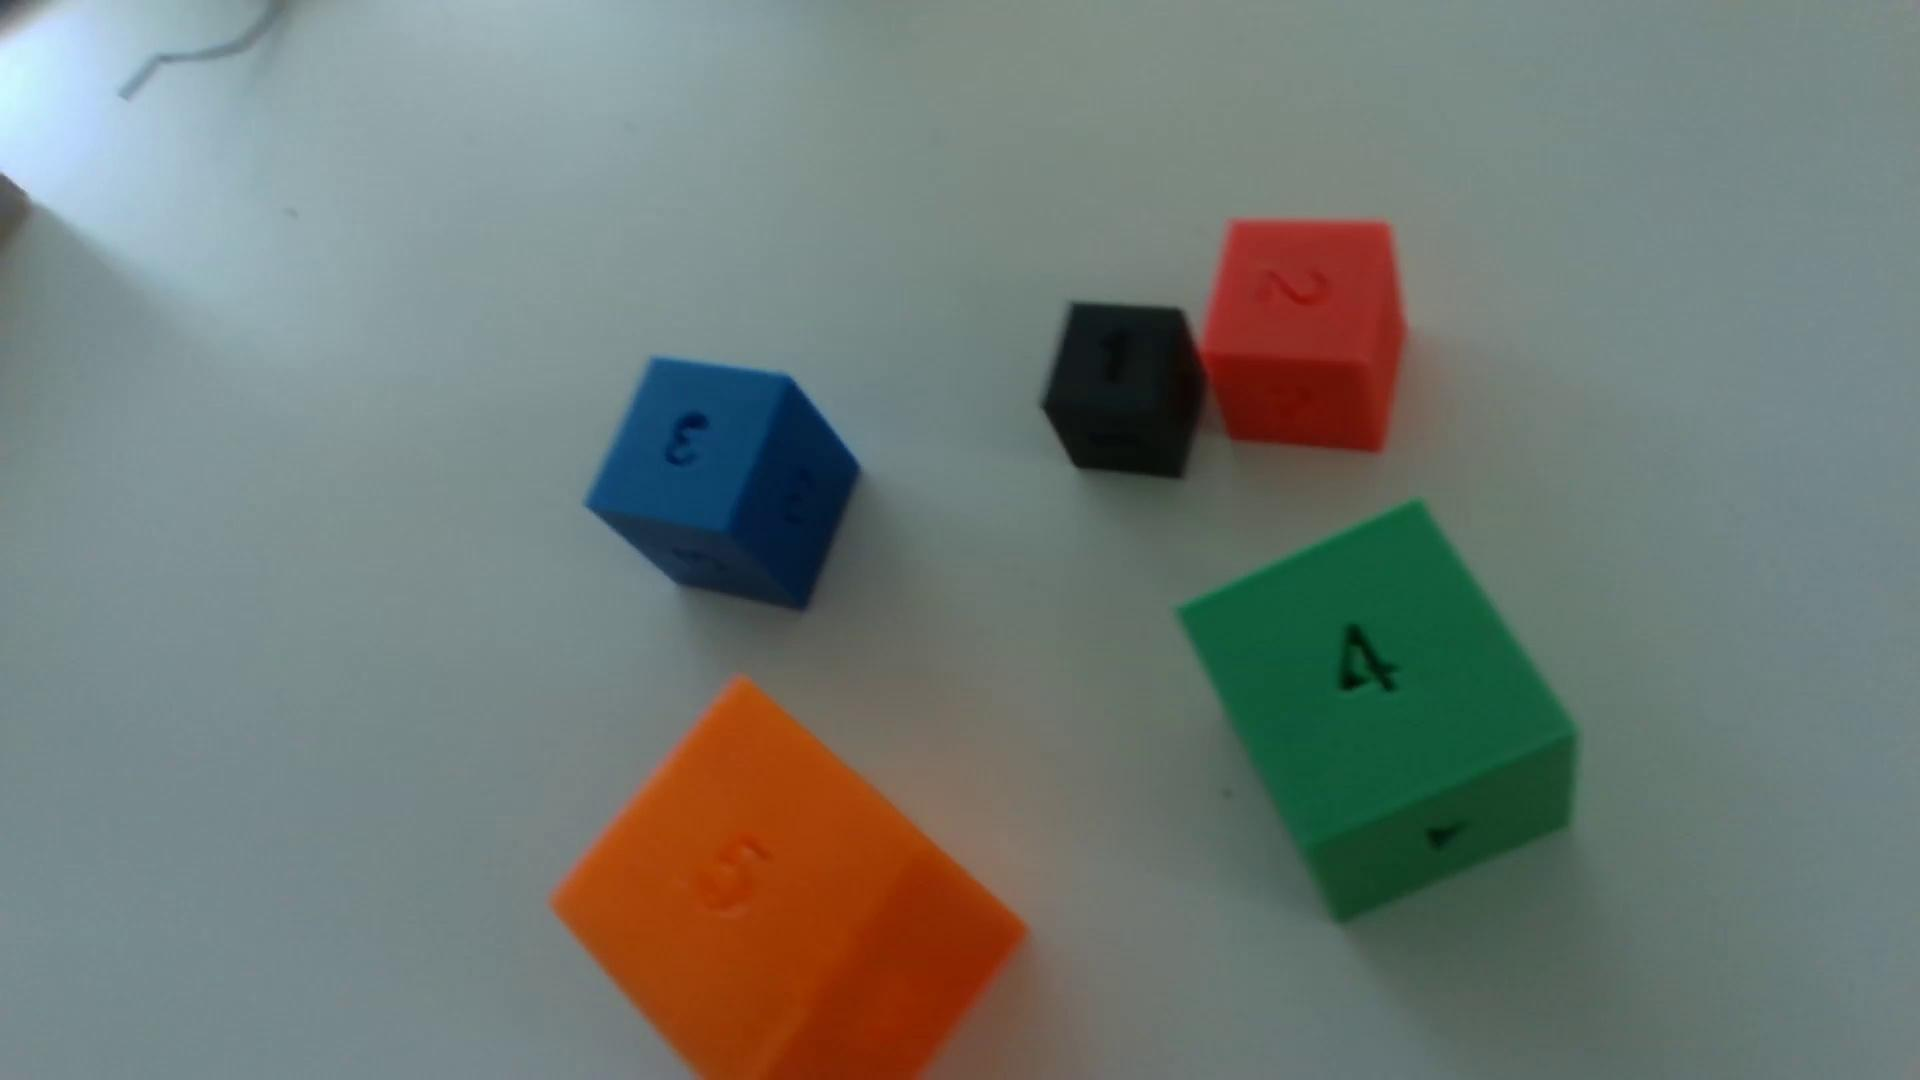black: (1040, 303, 1205, 480)
blue: (587, 357, 858, 611)
green: (1180, 502, 1578, 920)
orange: (551, 682, 1025, 1080)
red: (1199, 220, 1406, 454)
